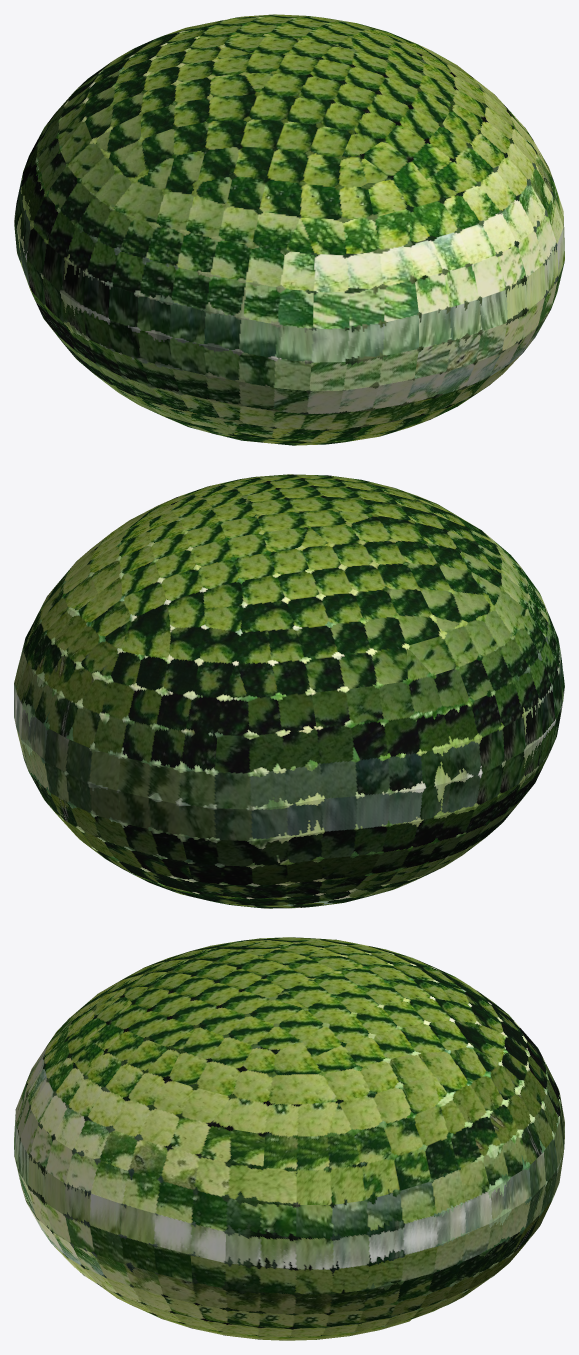
Rendered from watermelon.fbx.
3 views of the same model, one above another, from view 1: azimuth 30°, elevation 25°; view 2: azimuth 150°, elevation 25°; view 3: azimuth 270°, elevation 25° (orthographic). The views are drawn at different scales.
Parts seen in each view (by area): view 1: watermelon; view 2: watermelon; view 3: watermelon.
Boxes of the visible parts, x1,y1,x2,y2 form: watermelon: (14, 14, 564, 445); watermelon: (14, 474, 564, 908); watermelon: (14, 937, 564, 1340).
Size of the model in its own units: 690 by 510 by 747.
